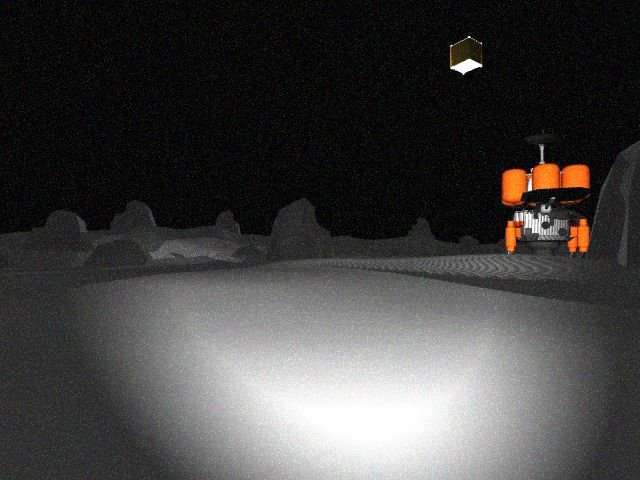cubesat: (443, 34, 487, 84)
